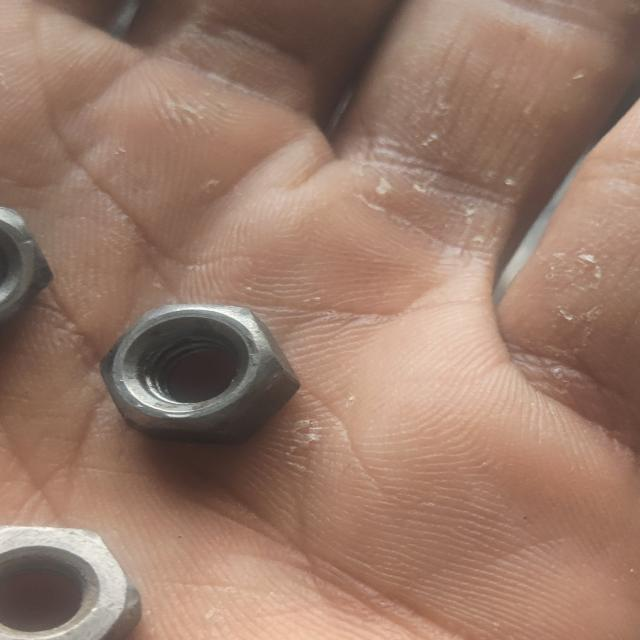disinfected nut: (100, 305, 300, 442), (0, 525, 140, 640)
